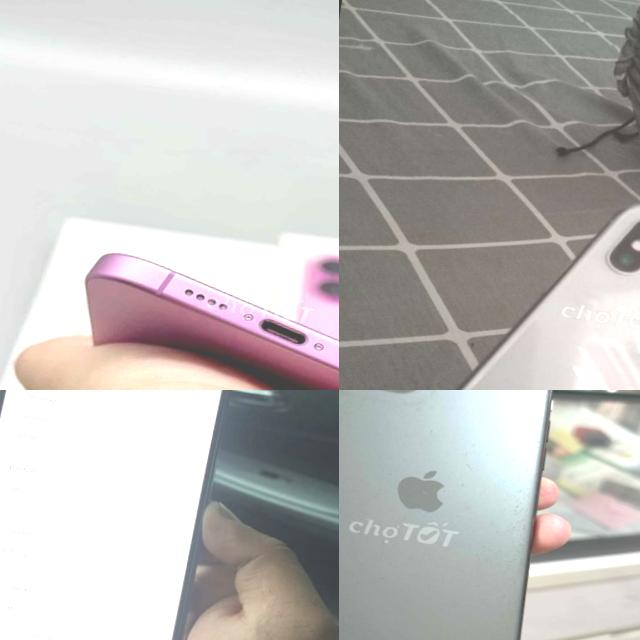scratch: (480, 439, 554, 640), (466, 489, 508, 613), (339, 390, 442, 418), (412, 390, 465, 425), (455, 438, 481, 490), (372, 572, 388, 588)
